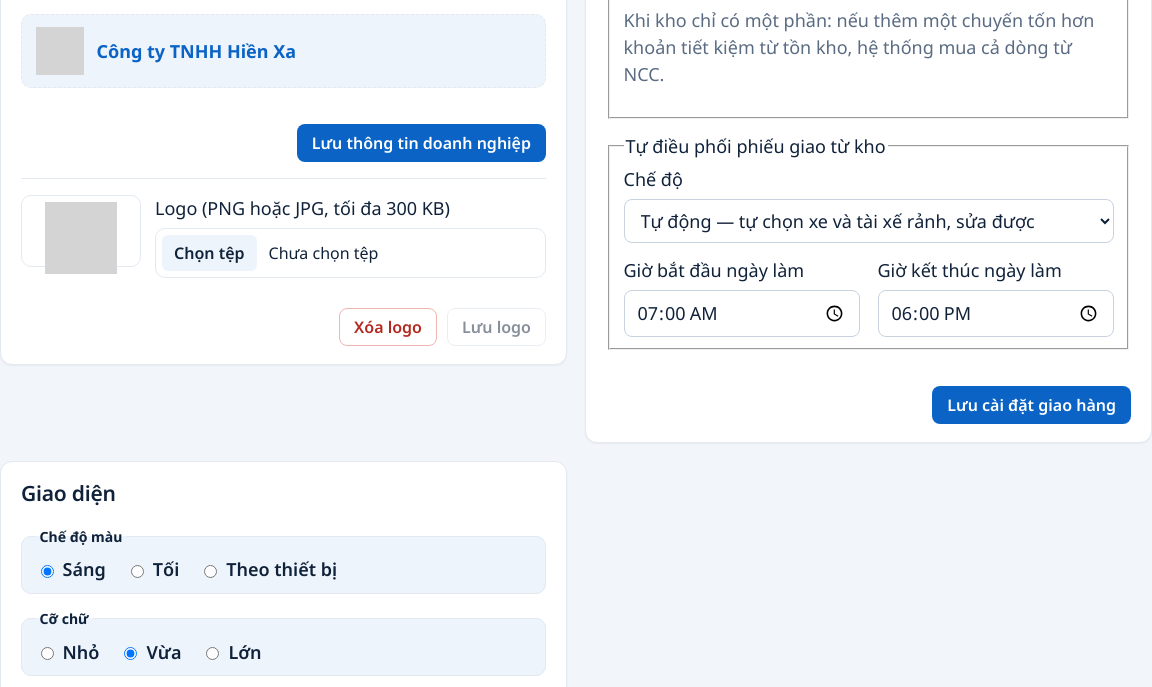
it: prints the saved logo in the preview and removes it against its fingerprint
(page scrolled)
Click the button "Xóa logo". click: x=388, y=327
box: [339,308,437,346]
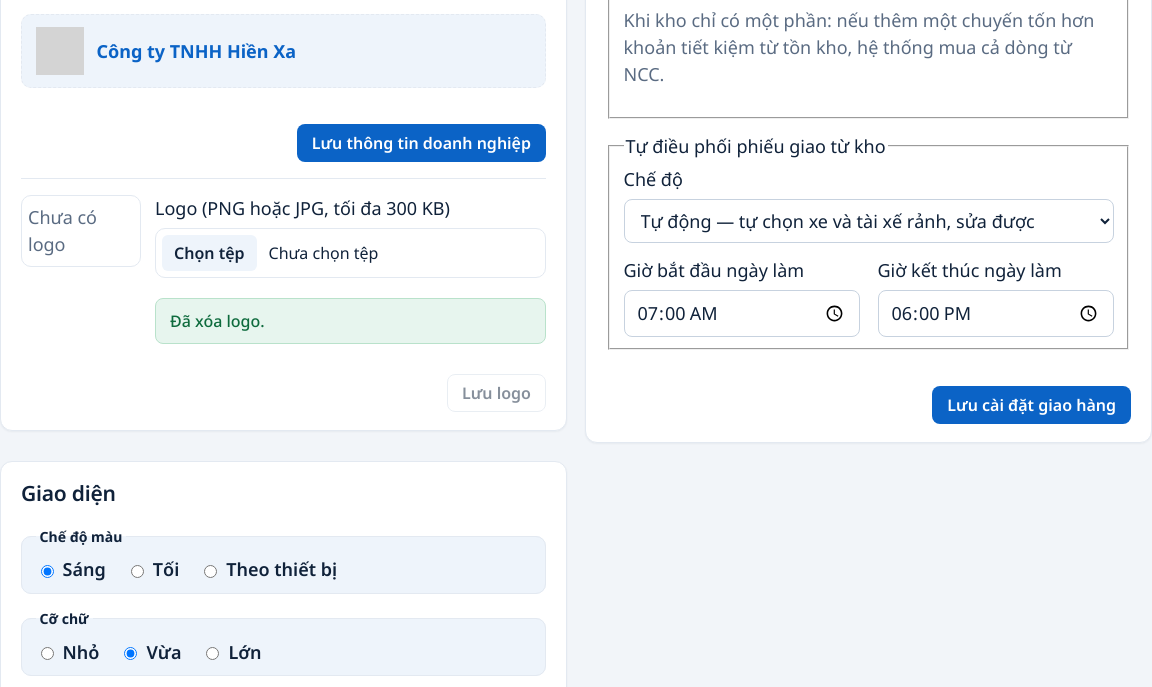
Result: the text "Chưa có logo" is shown at [28,205,97,256]
